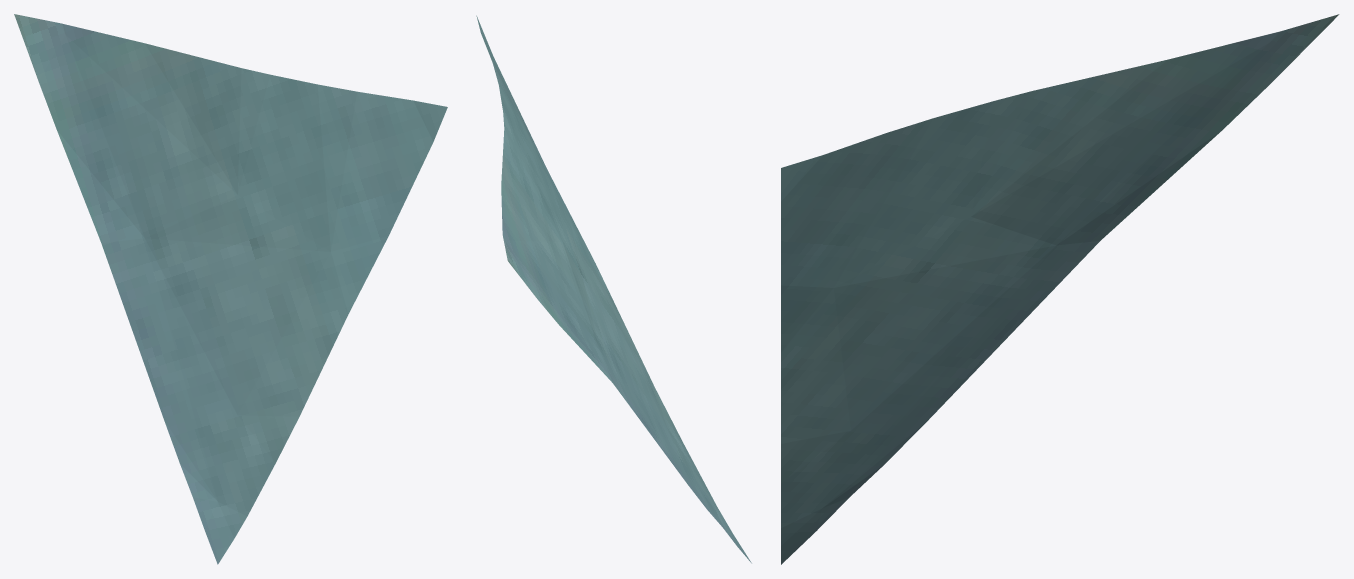
3 renders of one model, left to right at view 1: azimuth 30°, elevation 25°; view 2: azimuth 150°, elevation 25°; view 3: azimuth 270°, elevation 25°, orthographic. The views are drawn at different scales.
Visible parts, largest first — view 1: 091_W_Aya_100K_01; view 2: 091_W_Aya_100K_01; view 3: 091_W_Aya_100K_01.
Boxes of the visible parts, bbox=[...] form: 091_W_Aya_100K_01: bbox=[14, 14, 447, 564]; 091_W_Aya_100K_01: bbox=[476, 15, 751, 563]; 091_W_Aya_100K_01: bbox=[781, 14, 1339, 564].
Bounding box in the file's own units: 15.17 × 25.31 × 23.27.
Materials: 1 (1 with a texture image).
